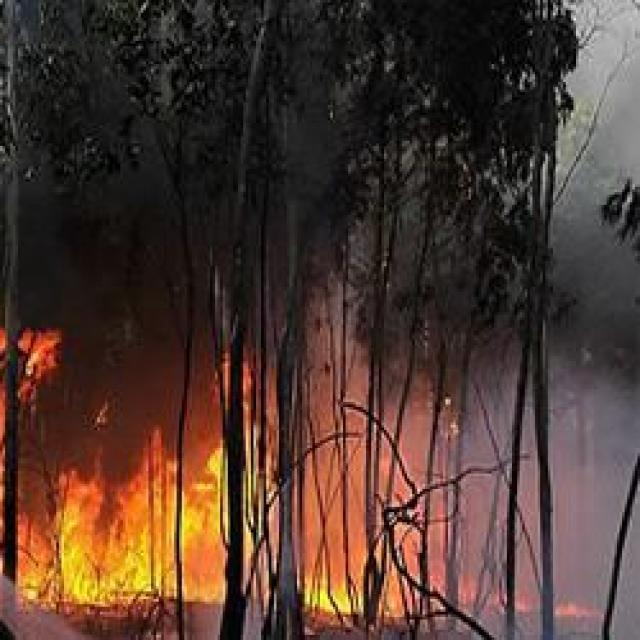Fire: (49, 464, 224, 598), (313, 578, 377, 614)
